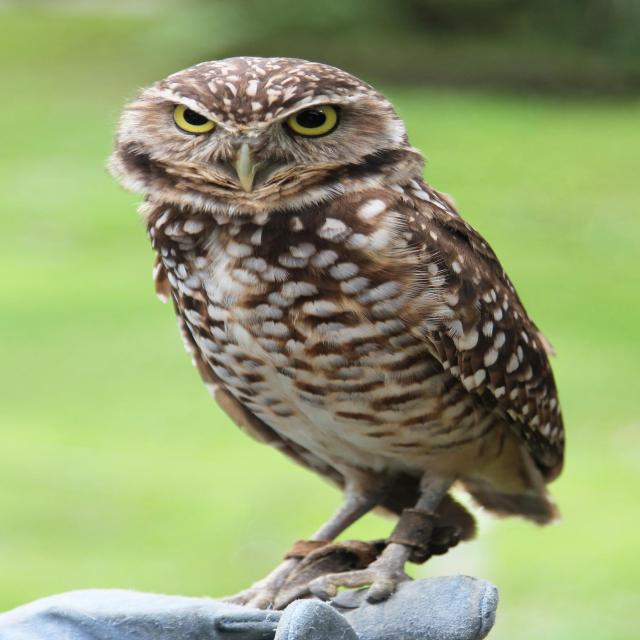Owl: (86, 41, 585, 617)
